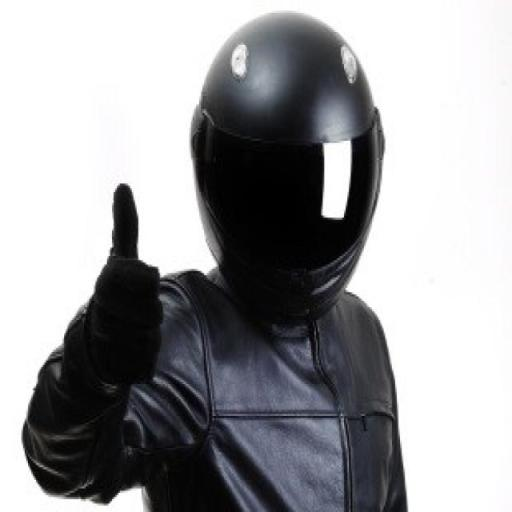Helmet: (173, 24, 392, 331)
